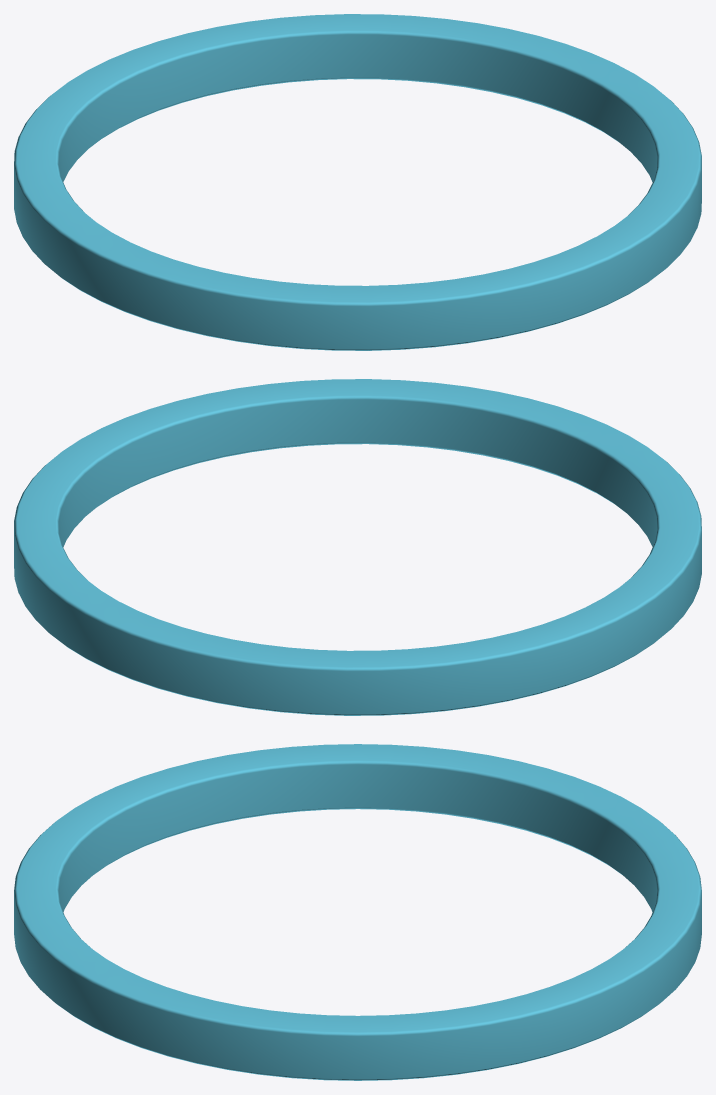
3 views of the same model, one above another, from view 1: azimuth 30°, elevation 25°; view 2: azimuth 150°, elevation 25°; view 3: azimuth 270°, elevation 25° (orthographic).
Visible parts, largest first — view 1: seal_body; view 2: seal_body; view 3: seal_body.
Boxes of the visible parts, x1,y1,x2,y2 form: seal_body: (14, 14, 701, 350); seal_body: (14, 379, 701, 715); seal_body: (14, 744, 701, 1080).
Size of the model in its own units: 0.115 by 0.009 by 0.115.
